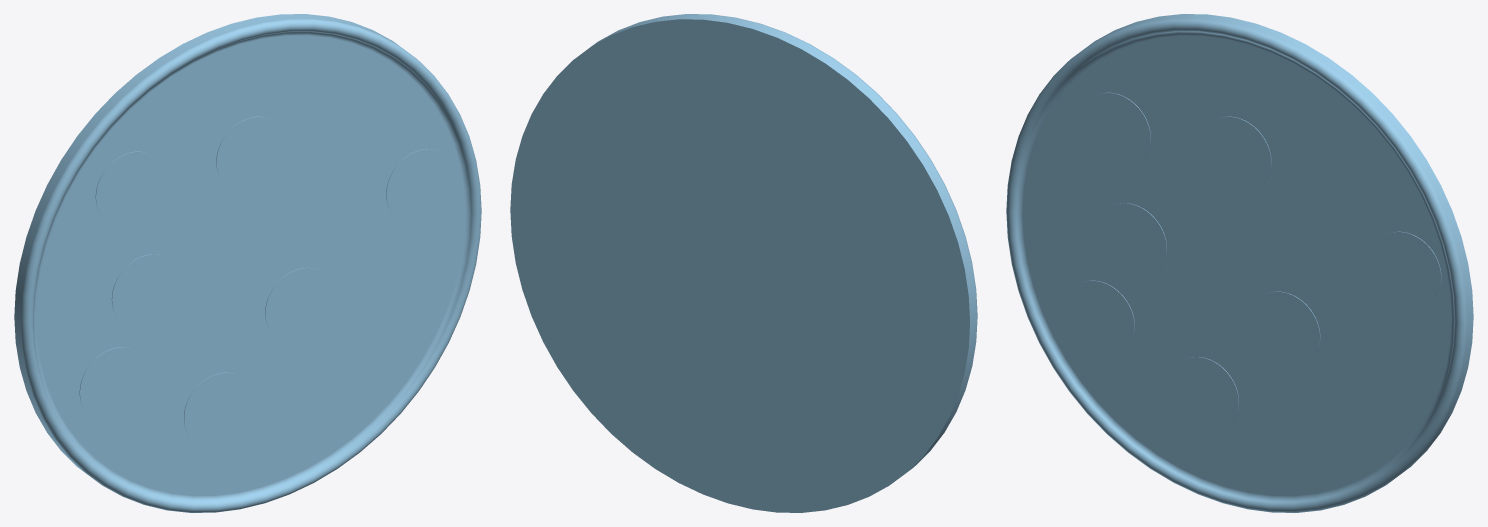
Rendered from Pizza.obj.
3 renders of one model, left to right at view 1: azimuth 30°, elevation 25°; view 2: azimuth 150°, elevation 25°; view 3: azimuth 330°, elevation 25°, orthographic.
Visible parts, largest first — view 1: mesh4, mesh2, mesh3, mesh1, mesh16, mesh18, mesh14, mesh10, mesh8, mesh12, mesh6; view 2: mesh0, mesh1, mesh2; view 3: mesh4, mesh2, mesh3, mesh1, mesh8, mesh14, mesh6, mesh18, mesh16, mesh12, mesh10.
Boxes of the visible parts, box(x1,y1,x2,y2) form: mesh4: box(36, 35, 464, 495); mesh2: box(21, 19, 481, 512); mesh3: box(33, 31, 471, 502); mesh1: box(14, 14, 398, 471); mesh16: box(265, 268, 334, 341); mesh18: box(386, 149, 455, 223); mesh14: box(80, 347, 148, 421); mesh10: box(216, 117, 285, 190); mesh8: box(112, 254, 180, 328); mesh12: box(184, 373, 252, 446); mesh6: box(96, 152, 164, 225); mesh0: box(510, 19, 969, 512); mesh1: box(592, 14, 976, 471); mesh2: box(641, 14, 977, 465); mesh4: box(1023, 35, 1451, 495); mesh2: box(1006, 19, 1466, 512); mesh3: box(1016, 31, 1454, 502); mesh1: box(1089, 14, 1473, 471); mesh8: box(1097, 203, 1166, 277); mesh14: box(1065, 281, 1134, 354); mesh6: box(1081, 93, 1150, 166); mesh18: box(1372, 232, 1440, 305); mesh16: box(1251, 292, 1319, 365); mesh12: box(1169, 357, 1238, 430); mesh10: box(1202, 117, 1271, 190).
Bounding box in the file's own units: 0.0508 × 0.0507 × 0.0019.
